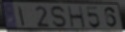2: (34, 5, 51, 28)
5: (86, 6, 102, 29)
6: (104, 6, 118, 29)
H: (67, 6, 87, 29)
I: (18, 6, 26, 27)
S: (50, 5, 68, 29)
